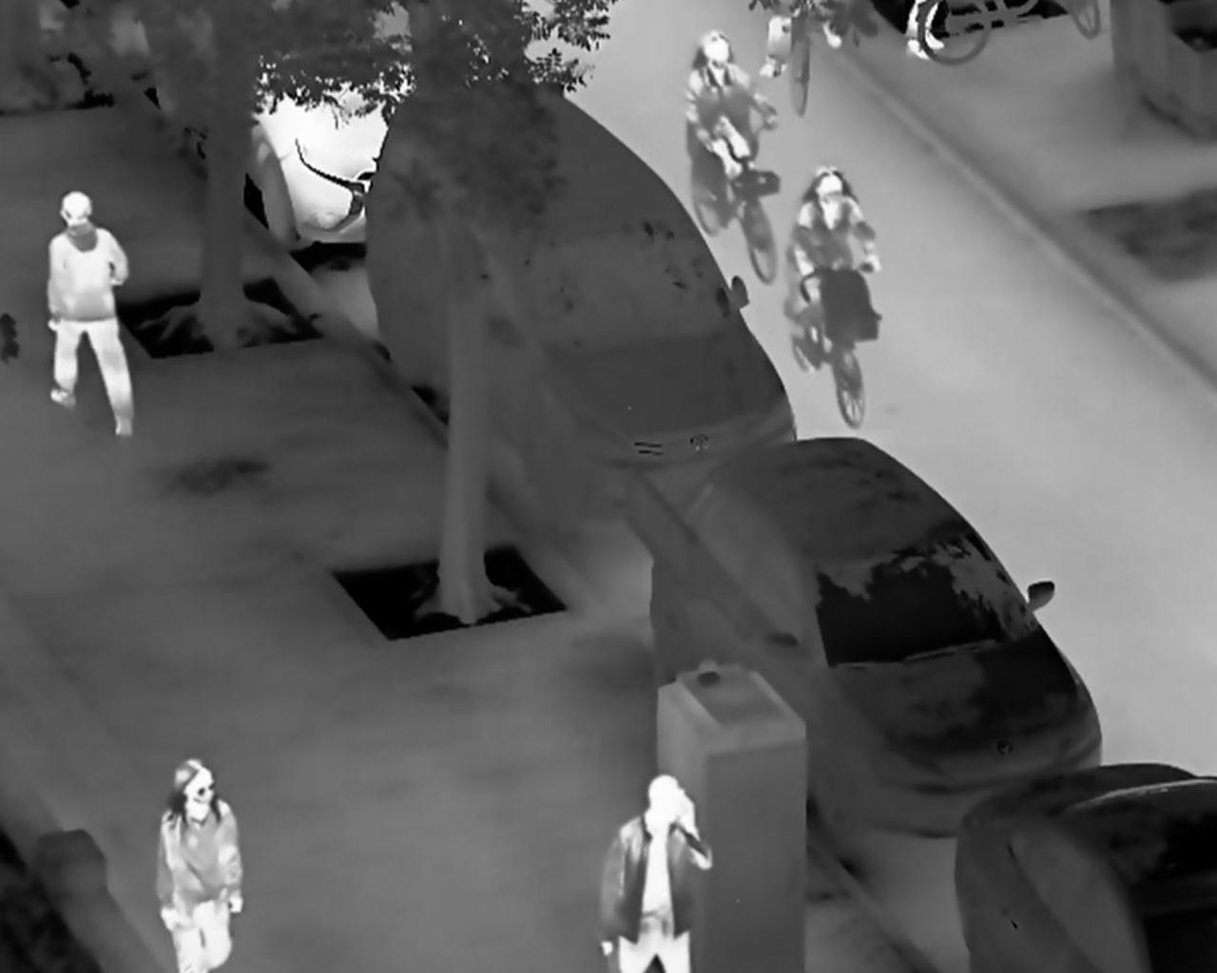person: (40, 189, 139, 444), (596, 770, 715, 973), (781, 163, 885, 377), (154, 758, 250, 973), (685, 32, 778, 224)
